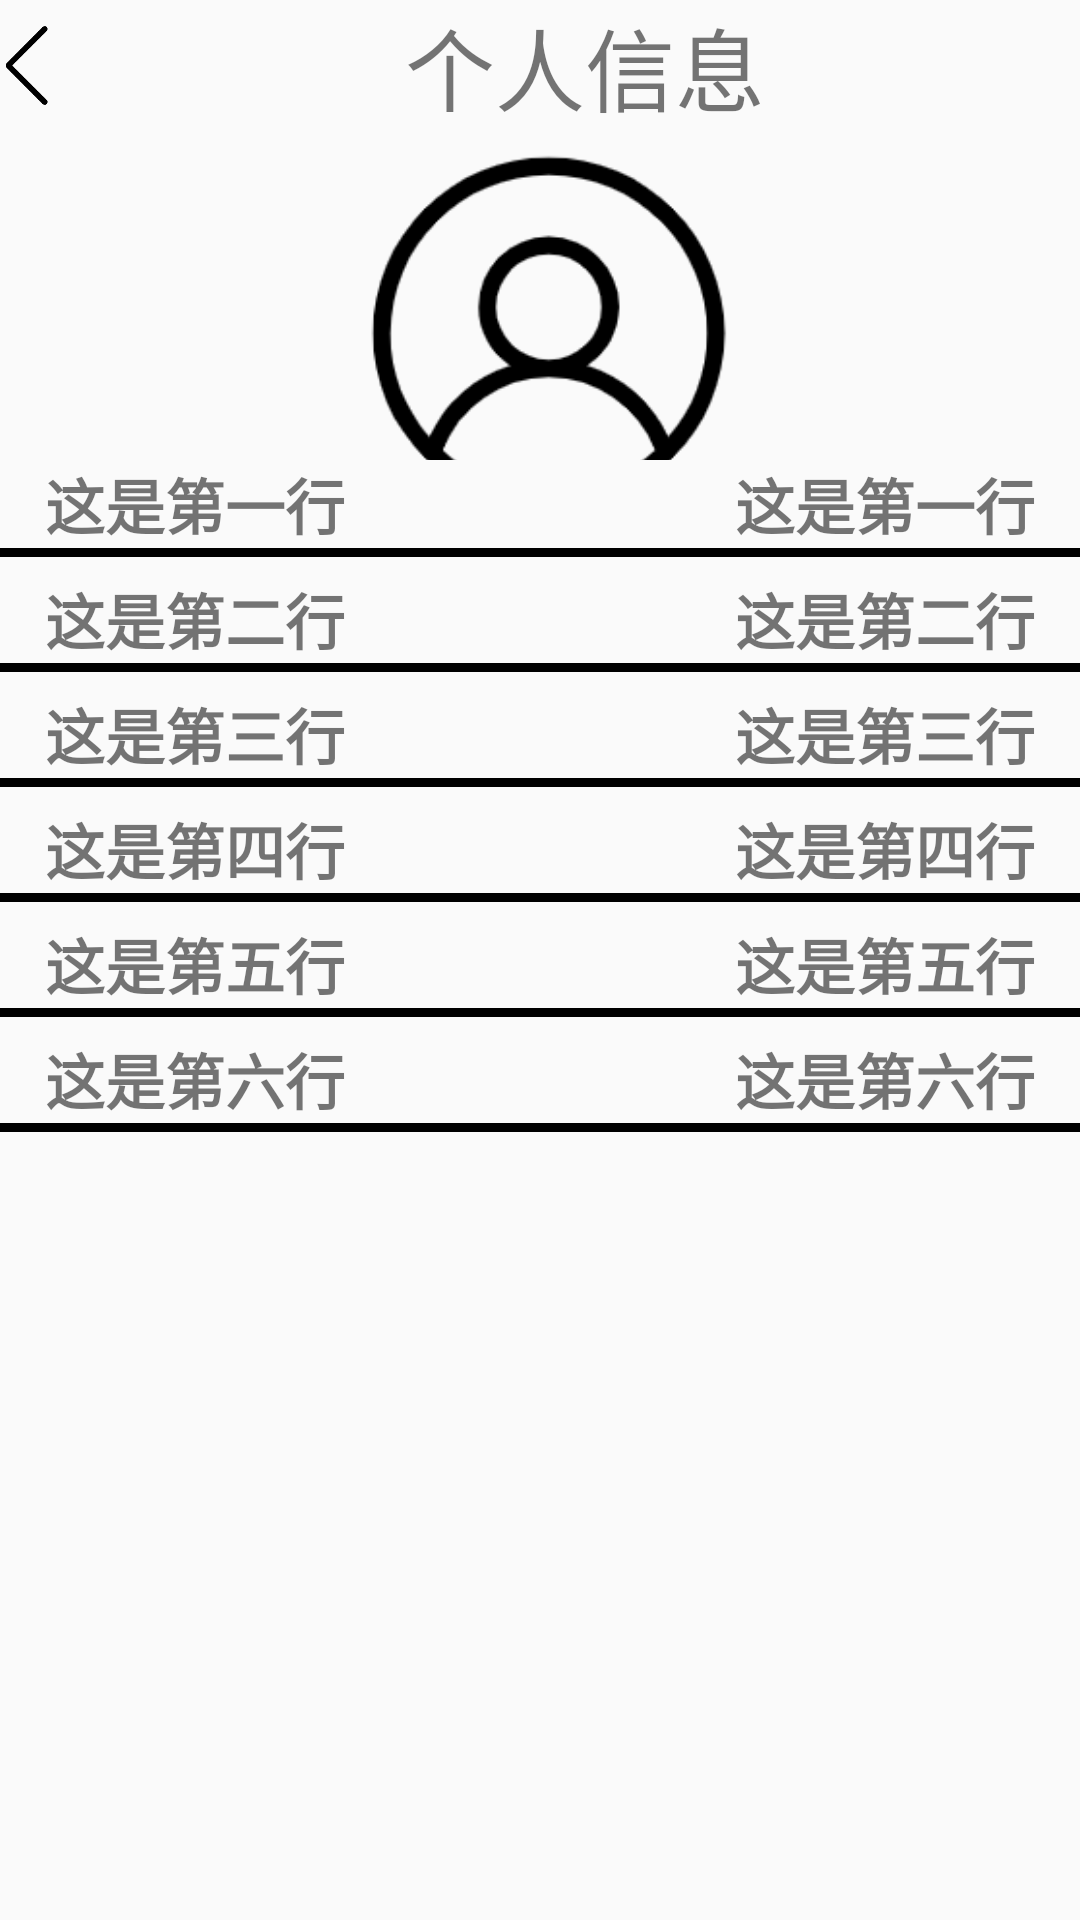

Icons on this 1080 x 1920 Android screen, each with the point to tap as (x=x, y=y):
back: (x=27, y=65)
